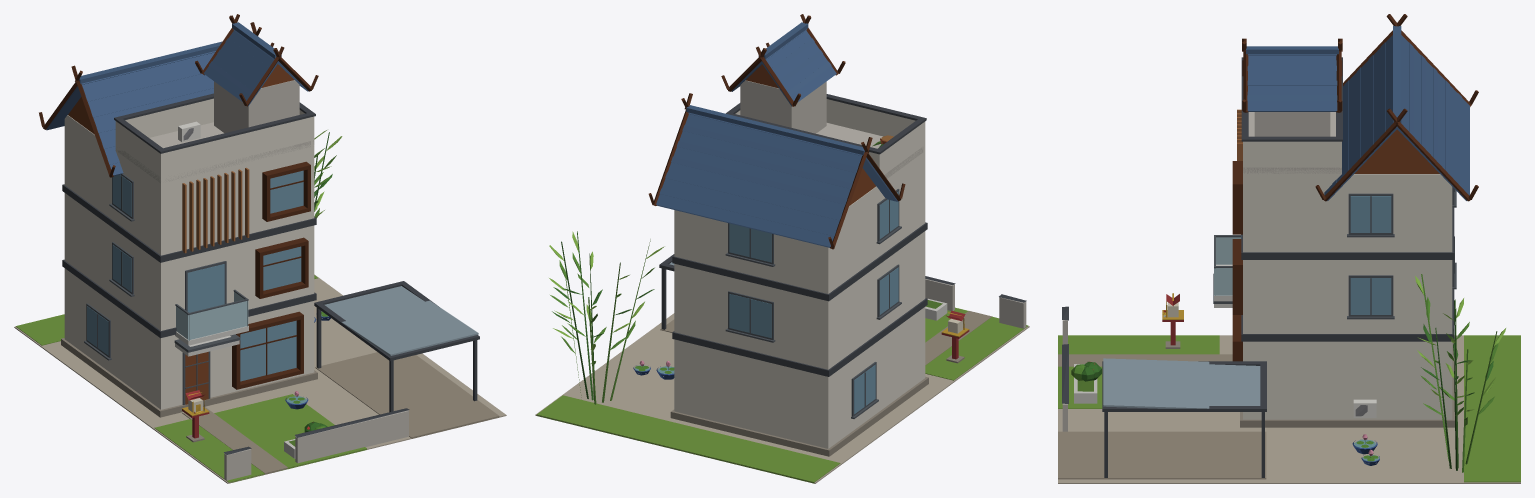
Rendered from house12_2.glb.
3 renders of one model, left to right at view 1: azimuth 30°, elevation 25°; view 2: azimuth 150°, elevation 25°; view 3: azimuth 270°, elevation 25°, orthographic. The views are drawn at different scales.
Visible parts, largest first — view 1: body; view 2: body; view 3: body.
Boxes of the visible parts, x1,y1,x2,y2 form: body: [14, 14, 506, 483]; body: [535, 14, 1029, 483]; body: [1058, 14, 1520, 483].
Bounding box in the file's own units: 12.75 × 14.01 × 15.9.
